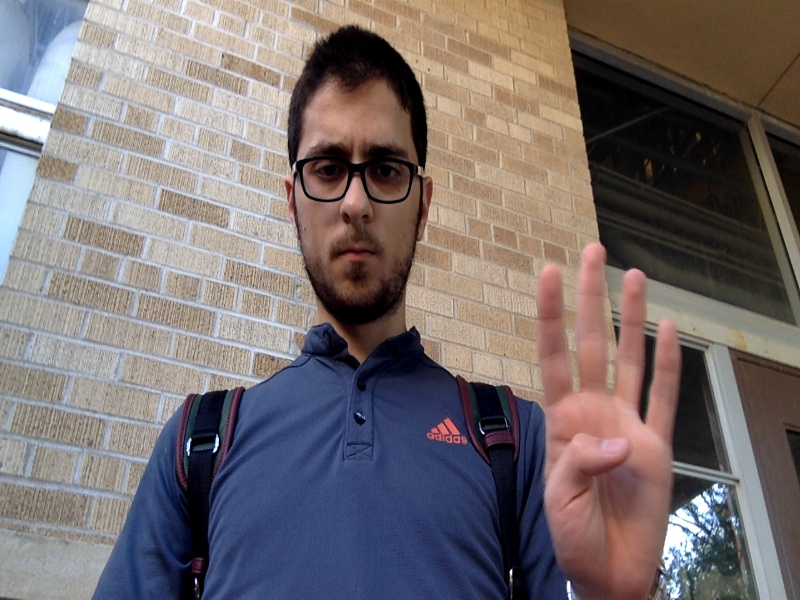4-hand: (536, 241, 680, 600)
